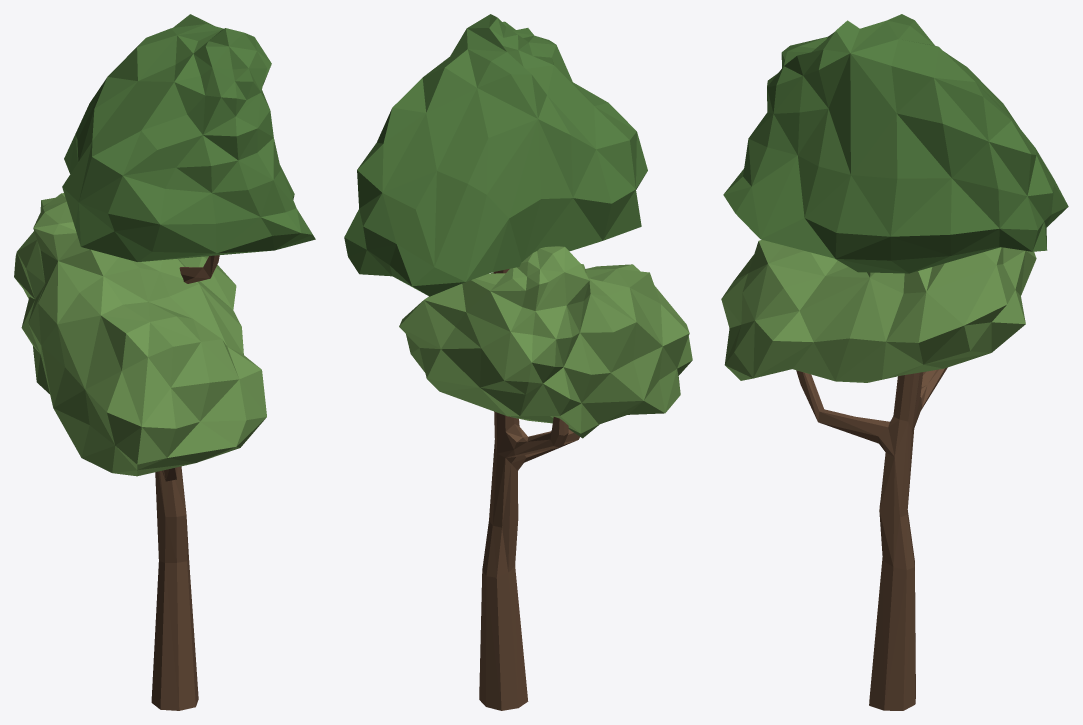
File: CommonTree_3.glb
3 views of the same model, side by side, from view 1: azimuth 30°, elevation 25°; view 2: azimuth 150°, elevation 25°; view 3: azimuth 270°, elevation 25° (orthographic). The views are drawn at different scales.
Visible parts, largest first — view 1: CommonTree_3; view 2: CommonTree_3; view 3: CommonTree_3.
Boxes of the visible parts, left/top/right/bottom form: CommonTree_3: left=14, top=14, right=315, bottom=710; CommonTree_3: left=344, top=14, right=692, bottom=710; CommonTree_3: left=721, top=14, right=1068, bottom=710.
Bounding box in the file's own units: 1.28 × 3.45 × 1.56.
